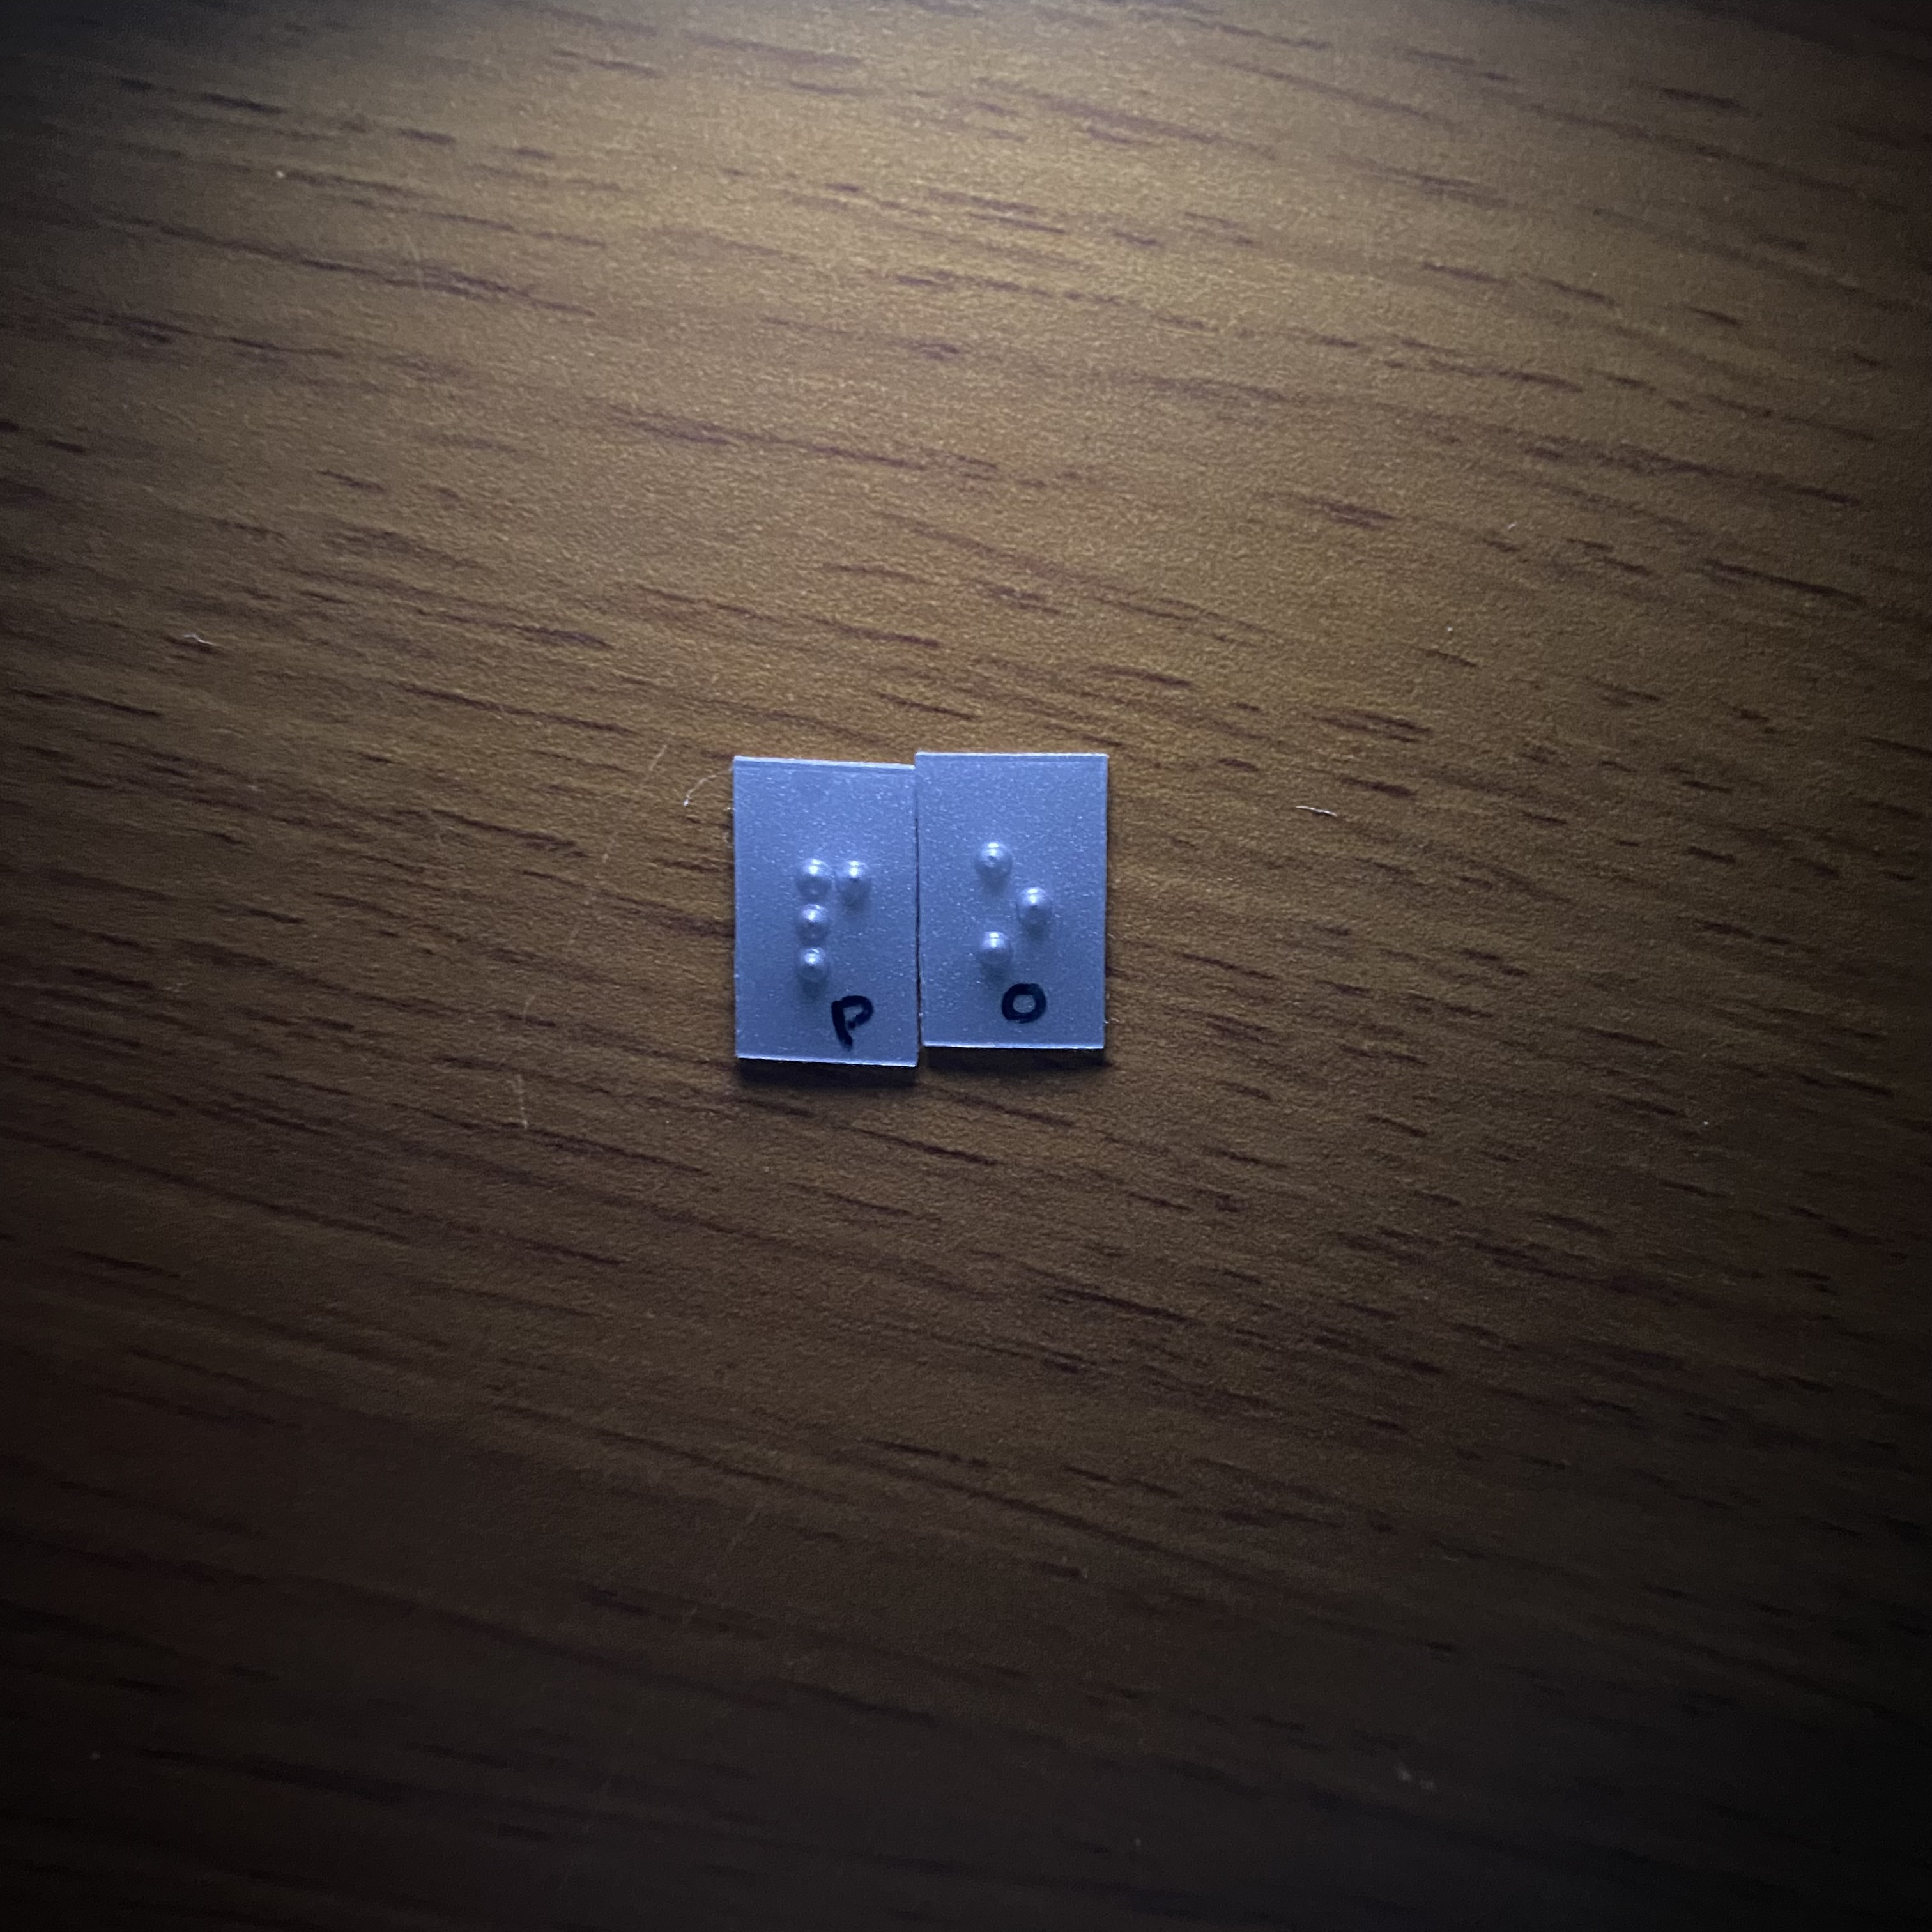o: (965, 832, 1069, 993)
p: (783, 839, 882, 1002)
